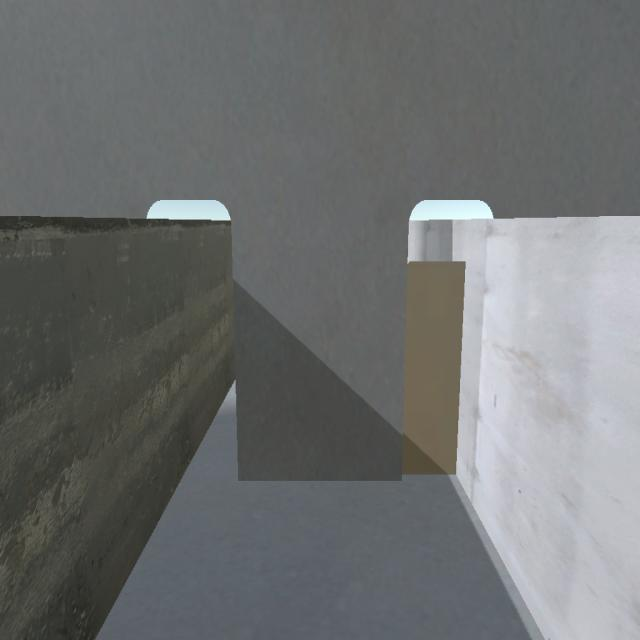fillet_yong_jeop_jang: (234, 469, 472, 483)
longi_yong_jeop_jang: (452, 256, 466, 483)
plate_behind: (409, 262, 460, 470)
